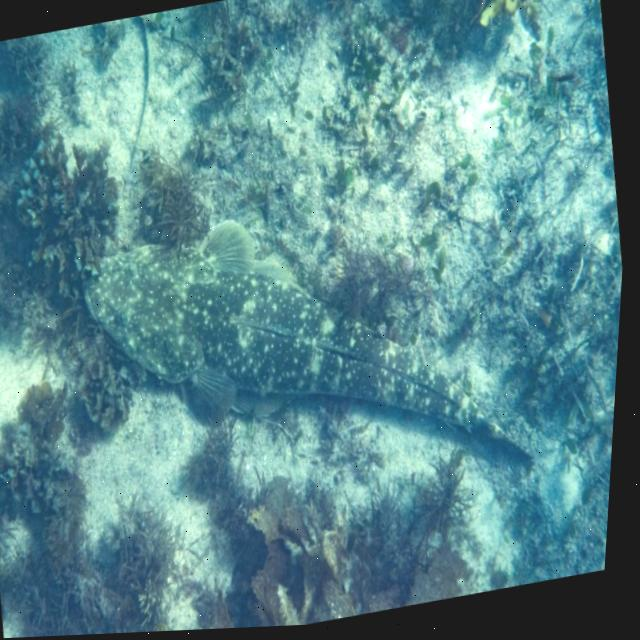Flathead: (49, 151, 565, 572)
